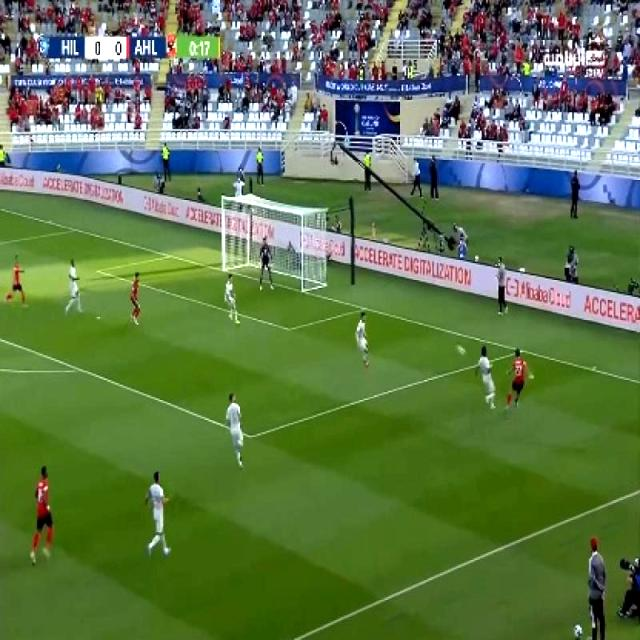bigarea_bottom_inner: (240, 422, 262, 448)
bigarea_top_outter: (64, 220, 82, 237)
bottom_arc_area_intersection: (69, 356, 91, 382)
smallarea_bottom_inner: (280, 317, 297, 338)
smallarea_bottom_outter: (354, 297, 372, 318)
smallarea_top_inner: (89, 262, 109, 280)
smallarea_top_outter: (158, 245, 176, 263)
